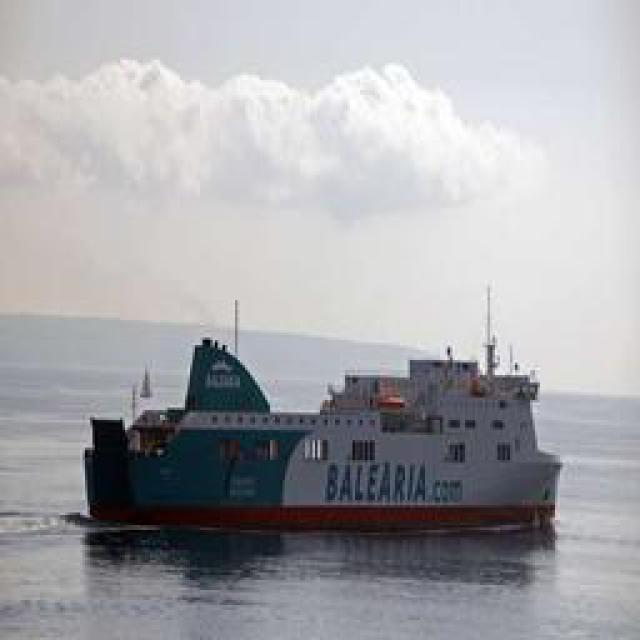Ship: (84, 286, 564, 534)
